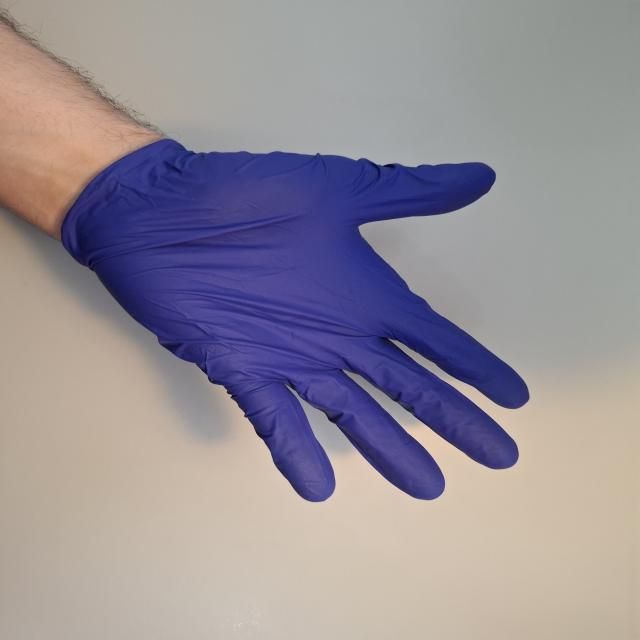glove_on: (58, 135, 533, 505)
